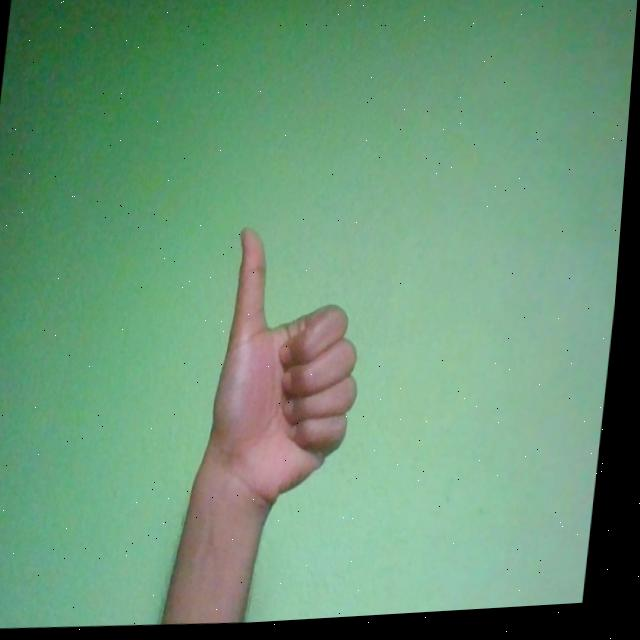Good Job: (209, 223, 379, 517)
